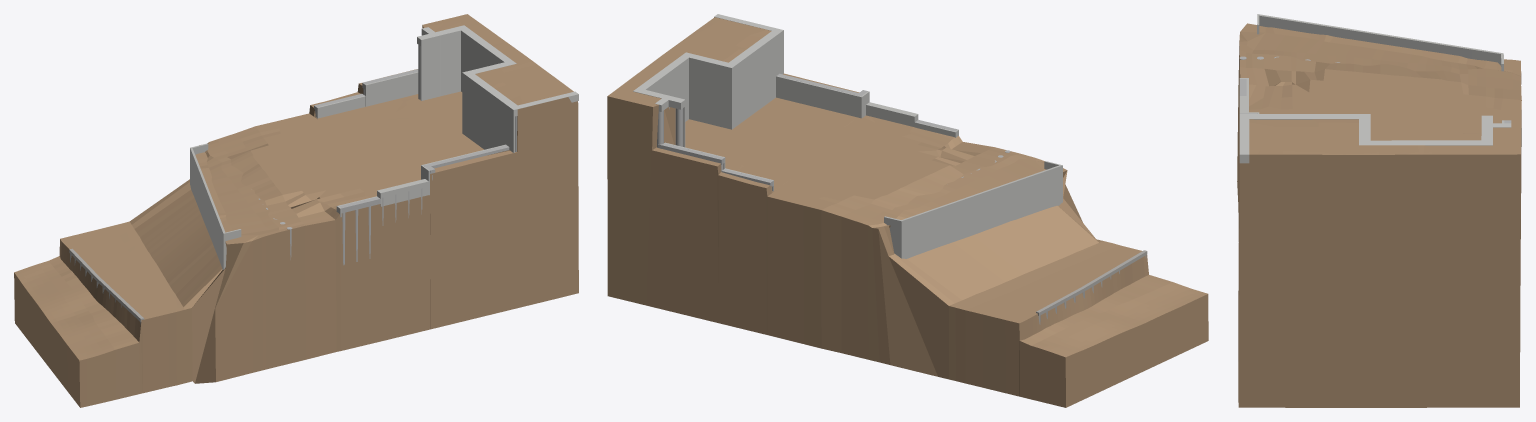
Rendered from shotcrete.glb.
3 views of the same model, side by side, from view 1: azimuth 30°, elevation 25°; view 2: azimuth 150°, elevation 25°; view 3: azimuth 270°, elevation 25° (orthographic). The views are drawn at different scales.
Parts seen in each view (by area): view 1: Terrain 07 - SPW2+3.006, Shotcrete--SP4.001, Retaining wall.002, CB1-RL10.008, CB1-RL9.003, CB1-RL9.023, Cube.124, CB1-RL9.017; view 2: Terrain 07 - SPW2+3.006, Shotcrete--SP4.001, Retaining wall.002, CB1-RL9.026, Cube.124, CB1-RL9.004; view 3: Terrain 07 - SPW2+3.006, Retaining wall.002, Shotcrete--SP4.001.
Part boxes in pixels (<box>): Terrain 07 - SPW2+3.006: <box>14,14,578,407</box>; Shotcrete--SP4.001: <box>417,25,578,152</box>; Retaining wall.002: <box>190,143,241,269</box>; CB1-RL10.008: <box>365,72,418,106</box>; CB1-RL9.003: <box>377,179,429,206</box>; CB1-RL9.023: <box>316,95,365,118</box>; Cube.124: <box>69,248,144,321</box>; CB1-RL9.017: <box>423,145,509,173</box>; Terrain 07 - SPW2+3.006: <box>607,17,1208,407</box>; Shotcrete--SP4.001: <box>633,14,783,147</box>; Retaining wall.002: <box>884,161,1062,258</box>; CB1-RL9.026: <box>776,76,869,118</box>; Cube.124: <box>1036,250,1147,315</box>; CB1-RL9.004: <box>866,104,915,127</box>; Terrain 07 - SPW2+3.006: <box>1237,23,1521,407</box>; Retaining wall.002: <box>1257,14,1503,71</box>; Shotcrete--SP4.001: <box>1239,114,1511,163</box>.
Bounding box in the file's own units: 45.82 × 17.66 × 17.99.
